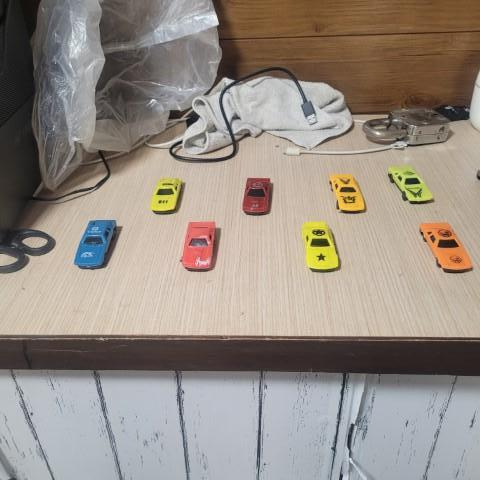car: (417, 217, 475, 273), (296, 218, 339, 272), (74, 218, 120, 267), (387, 161, 435, 202), (180, 218, 216, 268), (326, 171, 366, 211), (148, 177, 187, 214), (239, 175, 270, 215)
